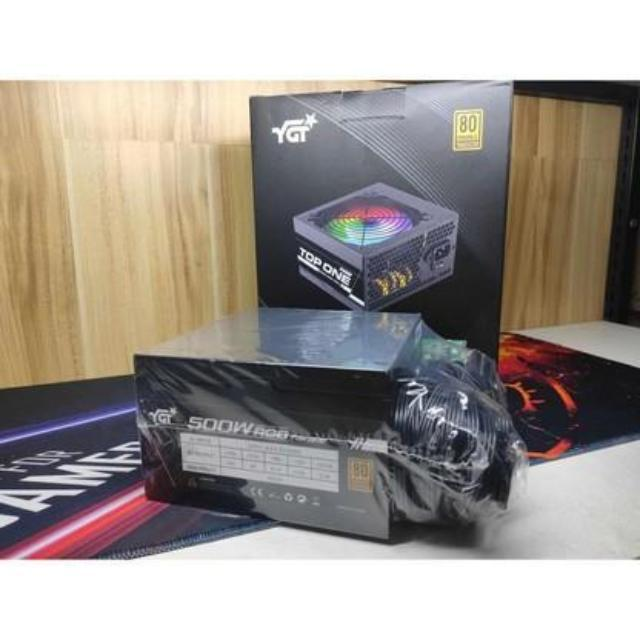PSU: (120, 296, 482, 559), (280, 177, 463, 305)
